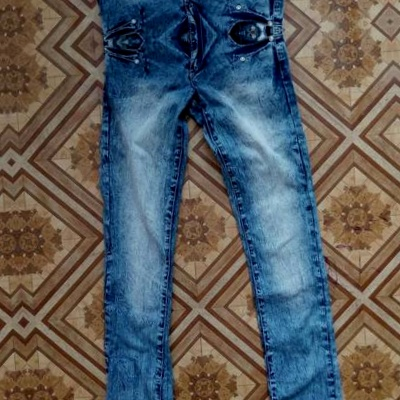Pants: (63, 31, 359, 400), (33, 0, 329, 41)
